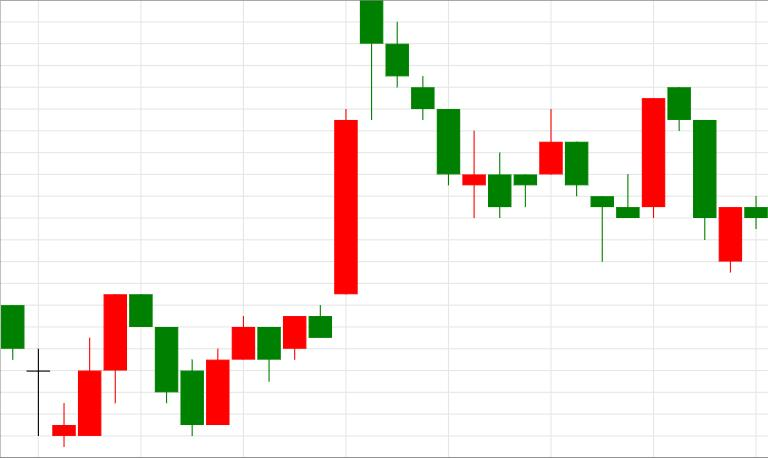hanging_man_fall: (206, 0, 383, 425)
